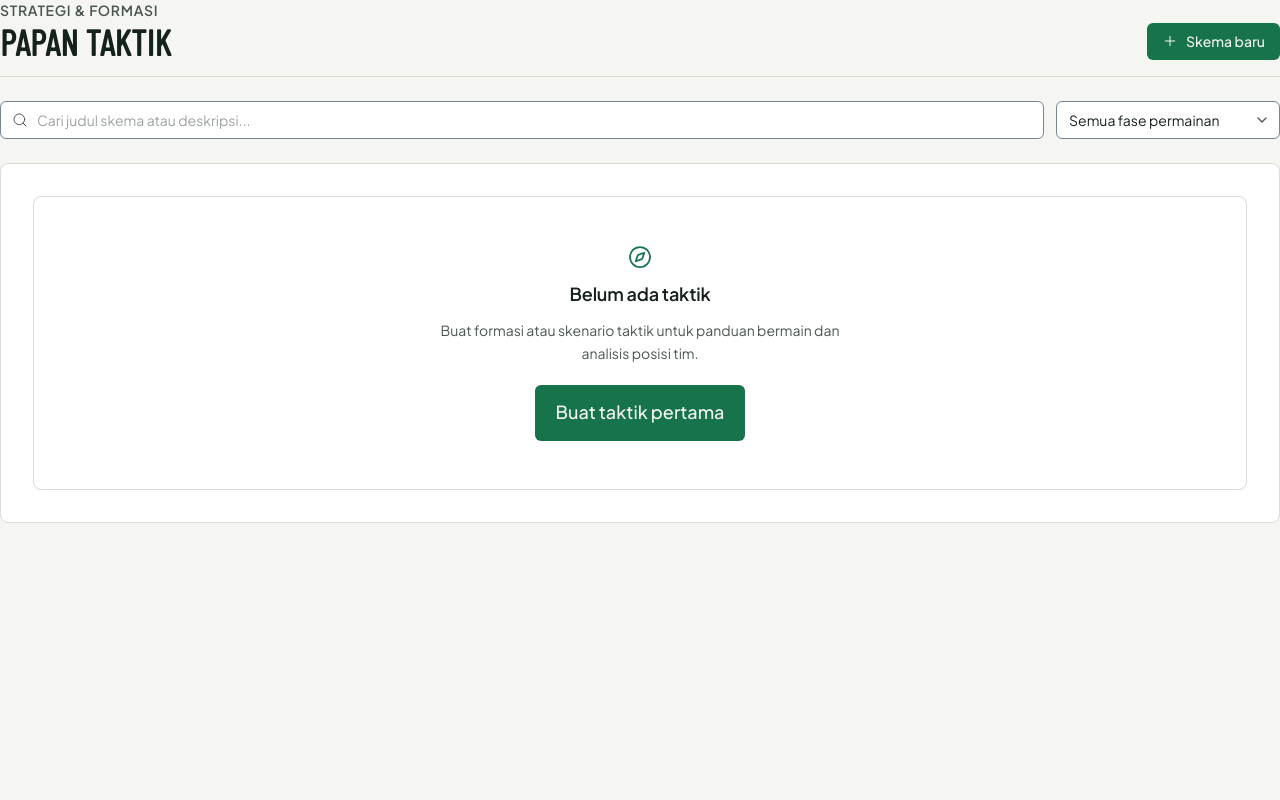
Scenario: UX-4 First-Run Tour and Guided Empty States › 3. Guided Empty States (Laga, Skuad, Taktik) › Taktik empty state: renders "Belum ada taktik" and "Buat taktik pertama" primary action
Check: the heading "Belum ada taktik" is shown, box [570,281,710,307]
Check: the text "Buat formasi atau skenario taktik untuk panduan bermain dan analisis posisi tim." is shown, box [416,319,864,364]
Click the button "Buat taktik pertama": [640, 412] box [535,384,746,440]
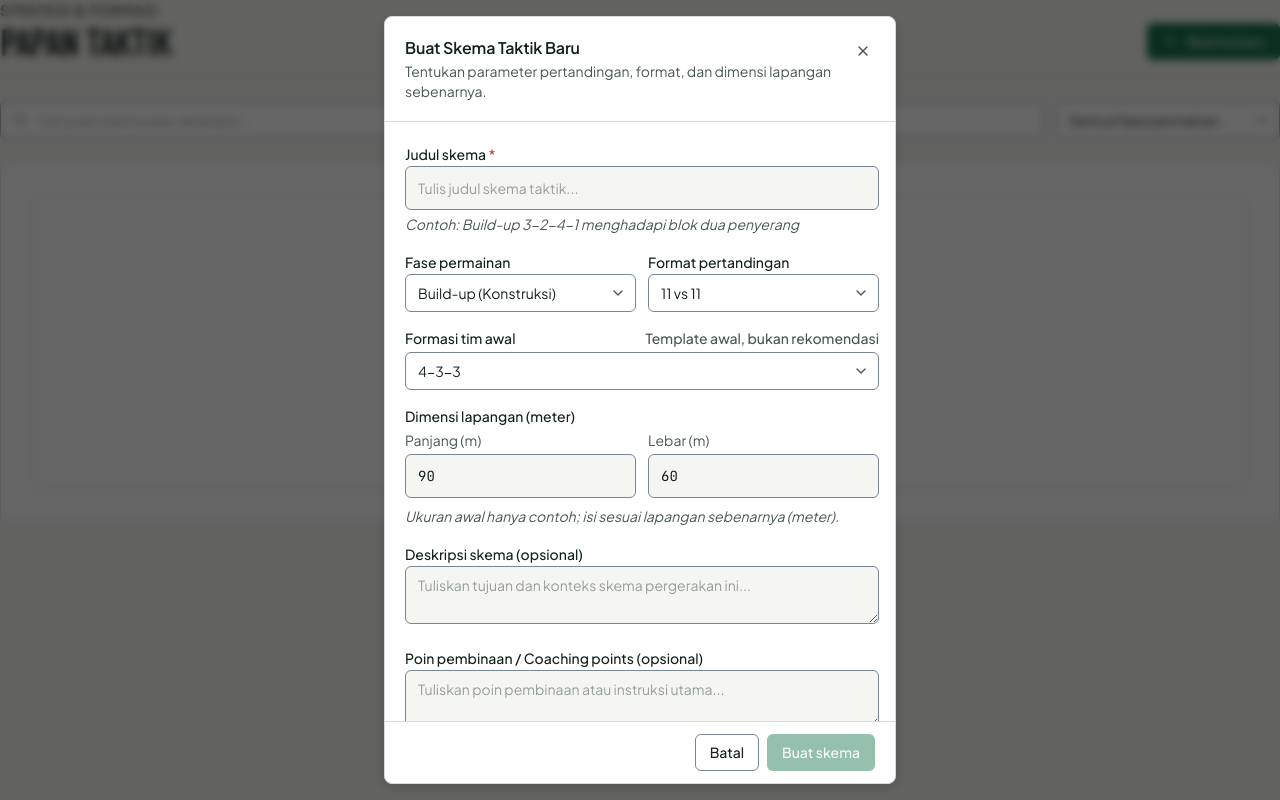
Check: the dialog is shown
Check: the field labelled "Judul skema *" is shown, box [405,166,879,210]
